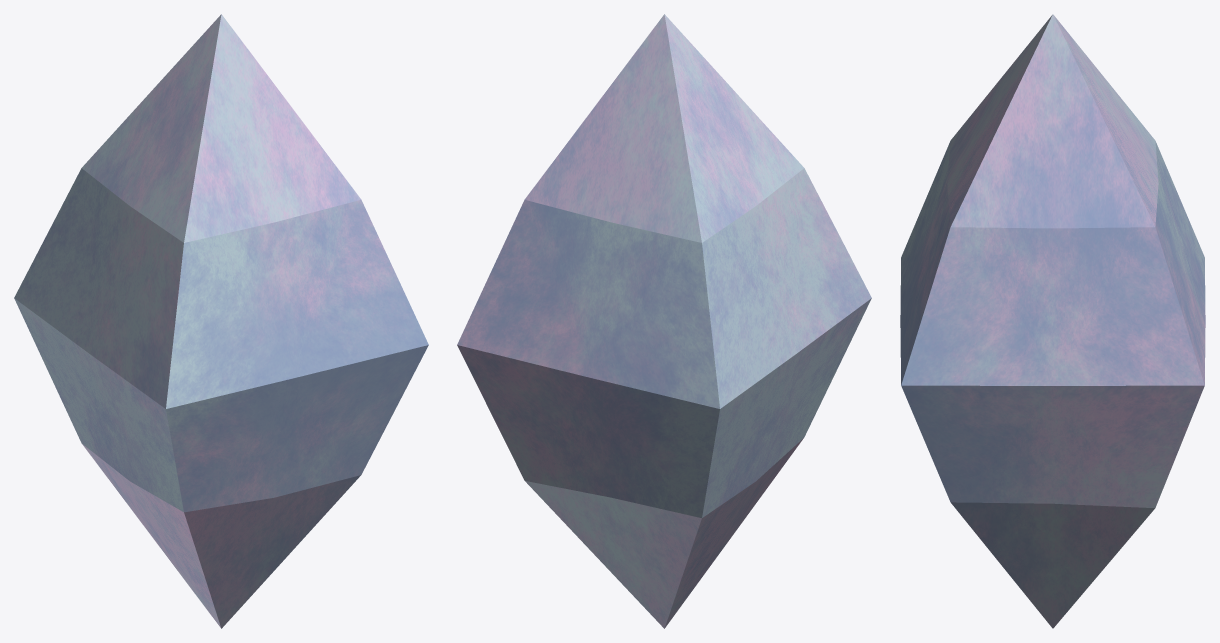
Rendered from HitIce.obj.
3 renders of one model, left to right at view 1: azimuth 30°, elevation 25°; view 2: azimuth 150°, elevation 25°; view 3: azimuth 270°, elevation 25°, orthographic.
Parts seen in each view (by area): view 1: Cube; view 2: Cube; view 3: Cube.
Part boxes in pixels (box(x1,y1,x2,y2)): Cube: box(14, 14, 428, 628); Cube: box(457, 14, 871, 628); Cube: box(900, 14, 1205, 628).
Size of the model in its own units: 2.01 by 4.47 by 2.01.
Materials: 1 (1 with a texture image).
